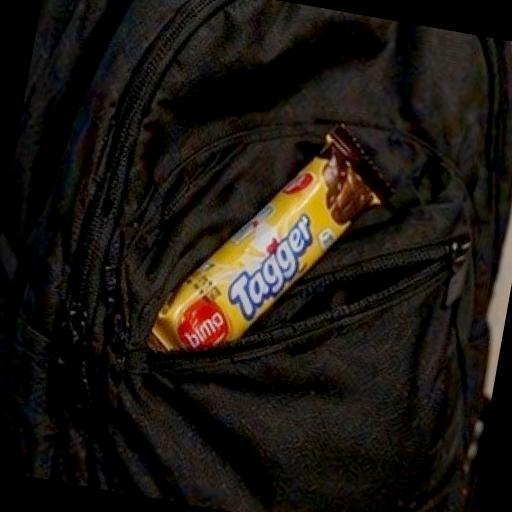tagger: (110, 72, 420, 434)
